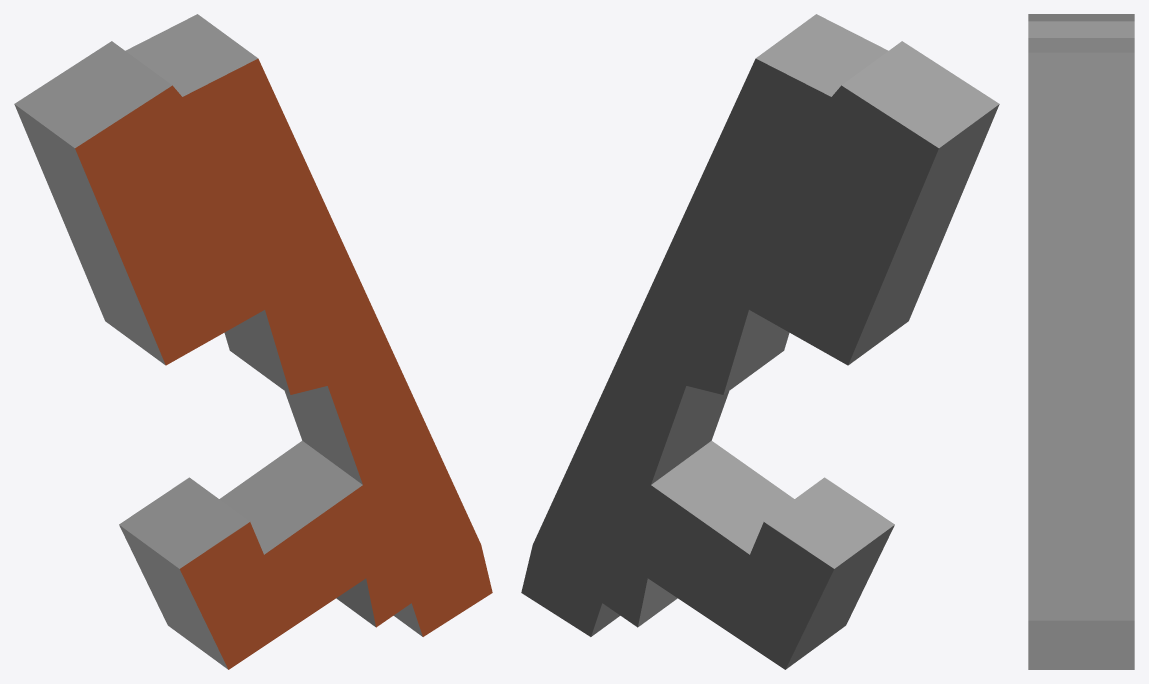
Rendered from construction_3490_assumed_A_Casa_h6m.obj.
3 views of the same model, side by side, from view 1: azimuth 30°, elevation 25°; view 2: azimuth 150°, elevation 25°; view 3: azimuth 270°, elevation 25° (orthographic). The views are drawn at different scales.
Parts seen in each view (by area): view 1: construction_3490_assumed_A_Casa; view 2: construction_3490_assumed_A_Casa; view 3: construction_3490_assumed_A_Casa.
Part boxes in pixels (x1,y1,x2,y2): construction_3490_assumed_A_Casa: (14, 14, 492, 669); construction_3490_assumed_A_Casa: (521, 14, 999, 669); construction_3490_assumed_A_Casa: (1028, 14, 1134, 669).
Bounding box in the file's own units: 23.83 × 33.74 × 6.
